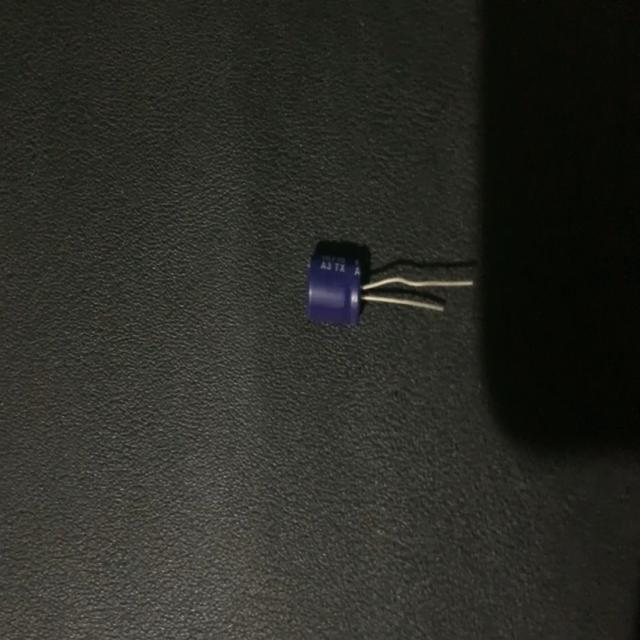capacitor: (305, 245, 475, 328)
